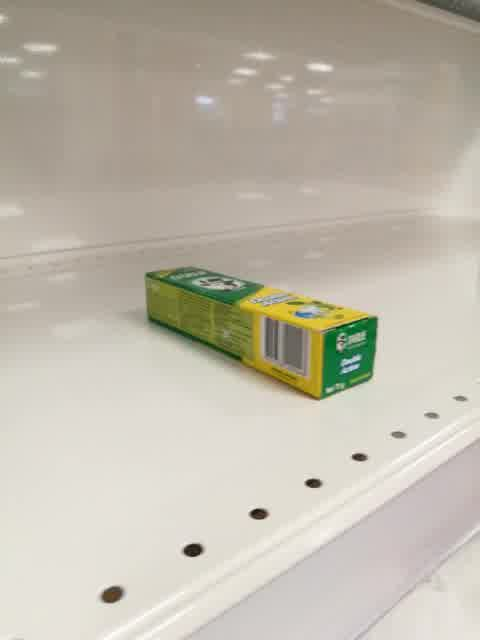toothpaste: (143, 265, 379, 400)
